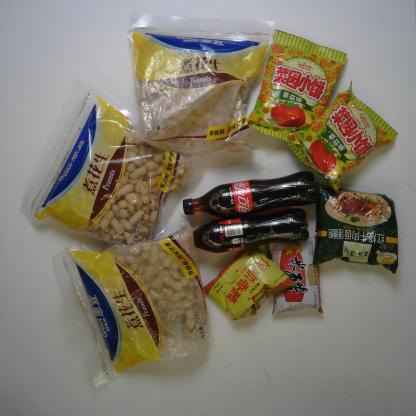Dried Food: (19, 81, 208, 260), (51, 216, 212, 389), (126, 13, 277, 158)
Drink: (182, 171, 319, 217), (171, 207, 309, 252)
Instant Noodles: (313, 182, 399, 276)
Puffed Food: (286, 79, 398, 195), (247, 28, 347, 149)
Seasoner: (204, 242, 295, 321), (264, 229, 324, 315)
